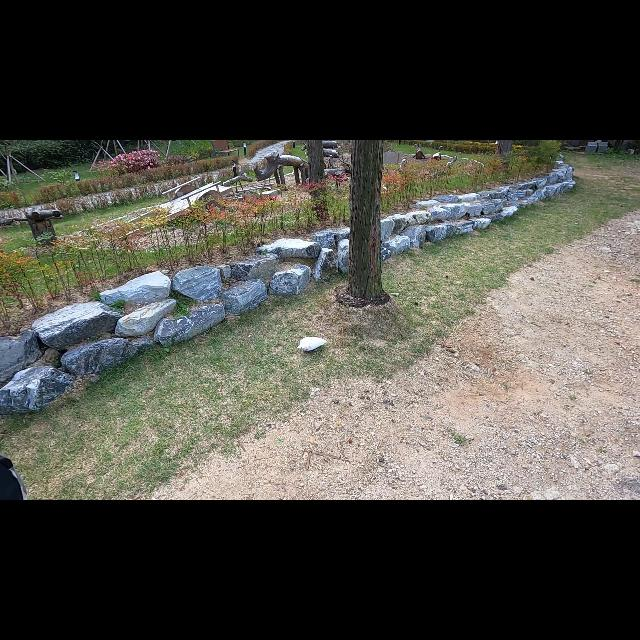trash: (297, 334, 329, 354)
